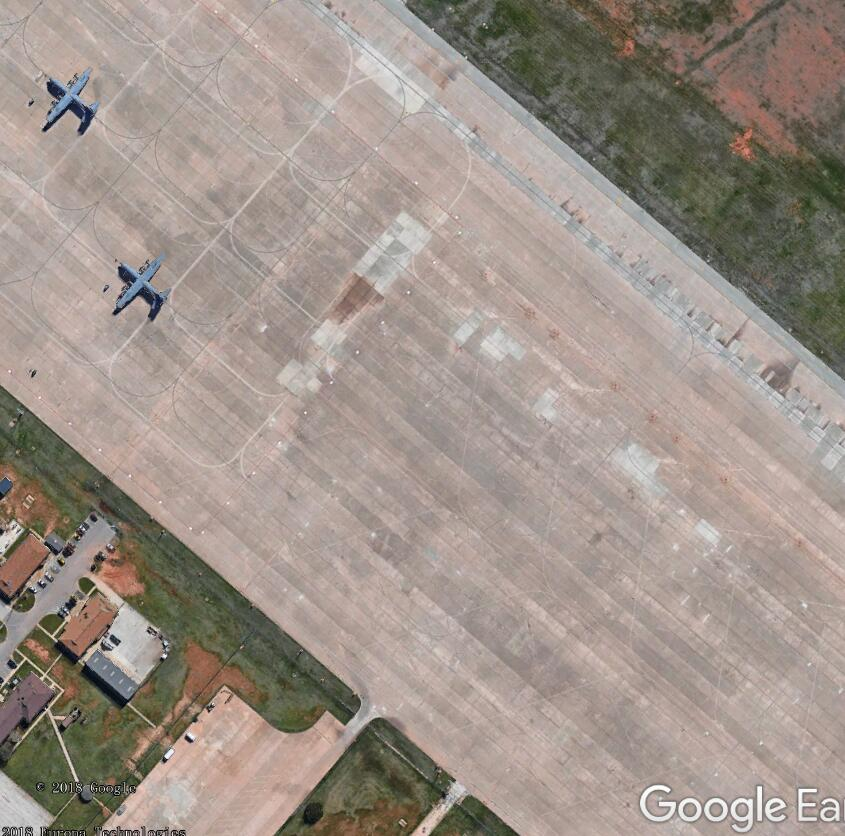A2: (111, 246, 177, 324), (36, 65, 105, 136)
